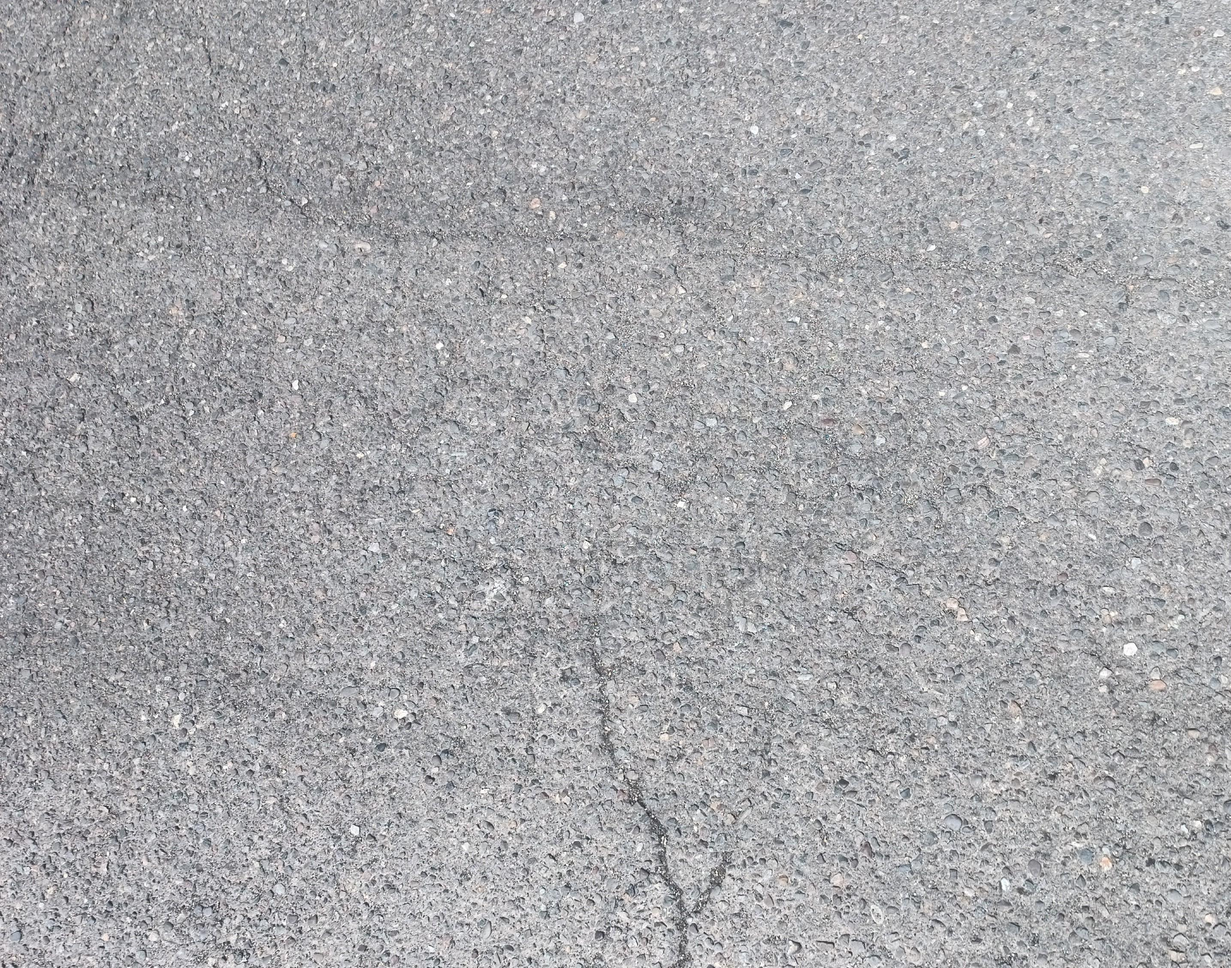GRIETA: (239, 130, 591, 240), (751, 245, 1135, 290), (646, 814, 692, 968)
PIEL DE COCODRILO: (0, 286, 1229, 821), (669, 214, 756, 325)
